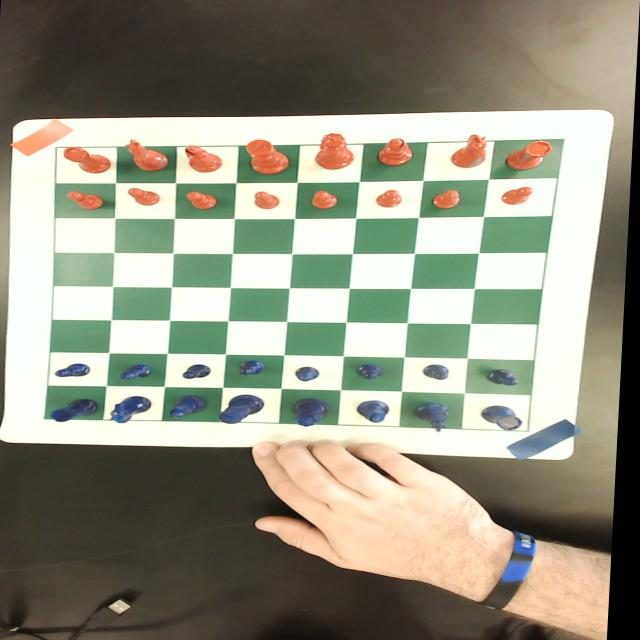B: (358, 400, 394, 424), (172, 396, 211, 418)
K: (222, 394, 268, 424)
N: (112, 396, 155, 424), (417, 402, 454, 432)
P: (120, 363, 155, 381), (489, 368, 524, 386), (57, 362, 94, 378), (423, 364, 454, 382), (357, 362, 386, 380), (182, 364, 215, 379), (296, 366, 323, 382), (239, 361, 267, 376)
Q: (294, 398, 333, 427)
R: (53, 398, 102, 424), (481, 405, 525, 433)
b: (184, 145, 225, 173), (377, 138, 417, 166)
k: (245, 139, 292, 175)
n: (125, 136, 171, 172), (449, 135, 489, 169)
p: (67, 191, 106, 210), (185, 190, 220, 210), (126, 188, 162, 206), (501, 187, 535, 206), (431, 190, 462, 210), (375, 189, 405, 209), (311, 190, 340, 210), (253, 192, 281, 210)
q: (315, 134, 356, 170)
r: (505, 140, 555, 170), (63, 146, 113, 174)
